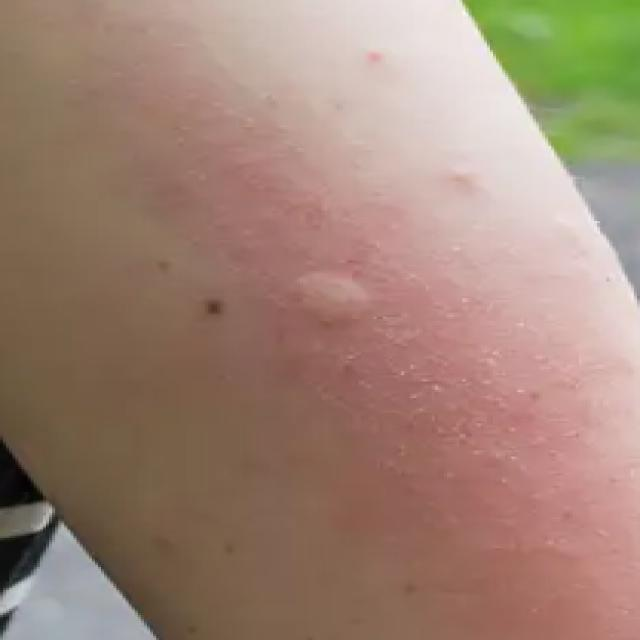sinek: (278, 274, 407, 327)
